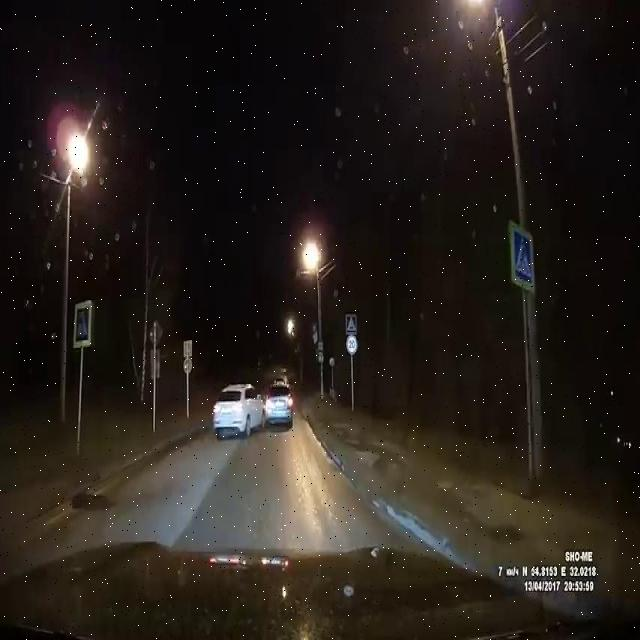severe: (210, 369, 296, 444)
